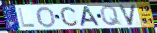A: (80, 5, 101, 27)
C: (60, 6, 80, 27)
L: (18, 8, 37, 29)
O: (36, 6, 57, 28)
Q: (99, 5, 123, 27)
V: (117, 3, 138, 27)
